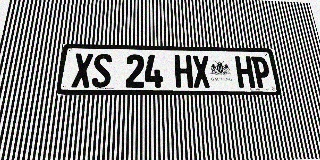2: (126, 54, 144, 88)
4: (145, 54, 163, 88)
H: (235, 56, 255, 88), (174, 55, 193, 88)
P: (251, 56, 272, 88)
S: (91, 54, 112, 88)
X: (71, 53, 93, 88), (192, 55, 211, 88)
